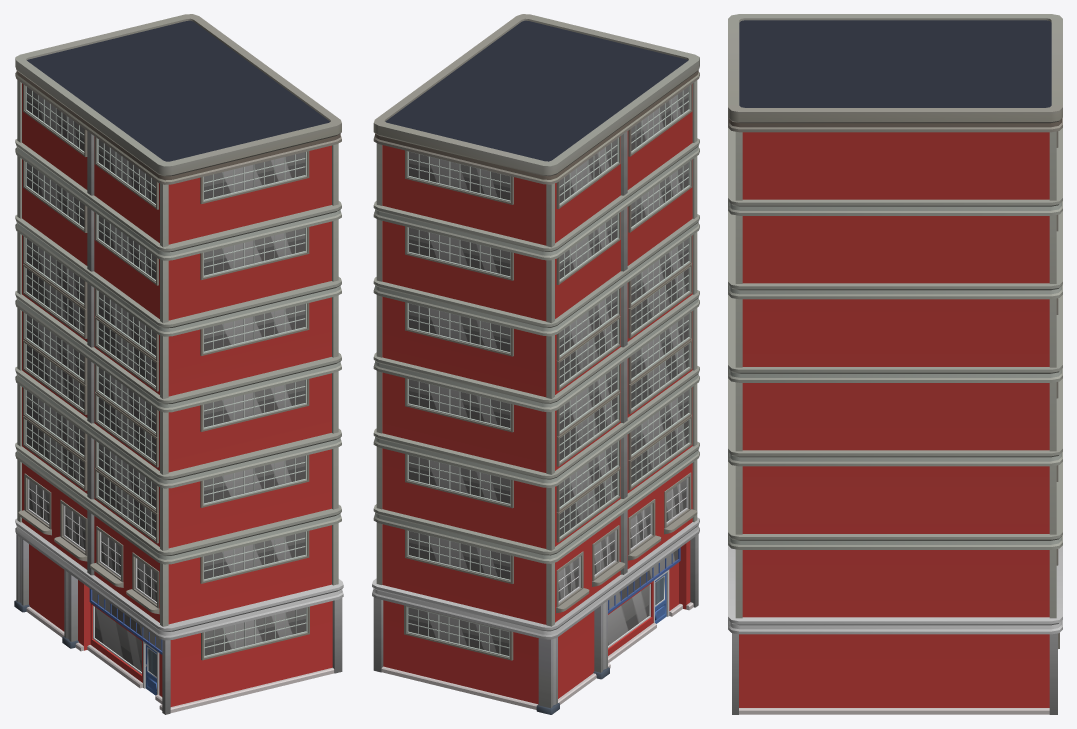
Rendered from Building_11_5_E.fbx.
3 renders of one model, left to right at view 1: azimuth 30°, elevation 25°; view 2: azimuth 150°, elevation 25°; view 3: azimuth 270°, elevation 25°, orthographic. The views are drawn at different scales.
Parts seen in each view (by area): view 1: Building_11_5_E; view 2: Building_11_5_E; view 3: Building_11_5_E.
Boxes of the visible parts, x1,y1,x2,y2 form: Building_11_5_E: (14,14,343,714); Building_11_5_E: (372,14,699,714); Building_11_5_E: (728,14,1062,714).
Size of the model in its own units: 827 by 2314 by 1163.
